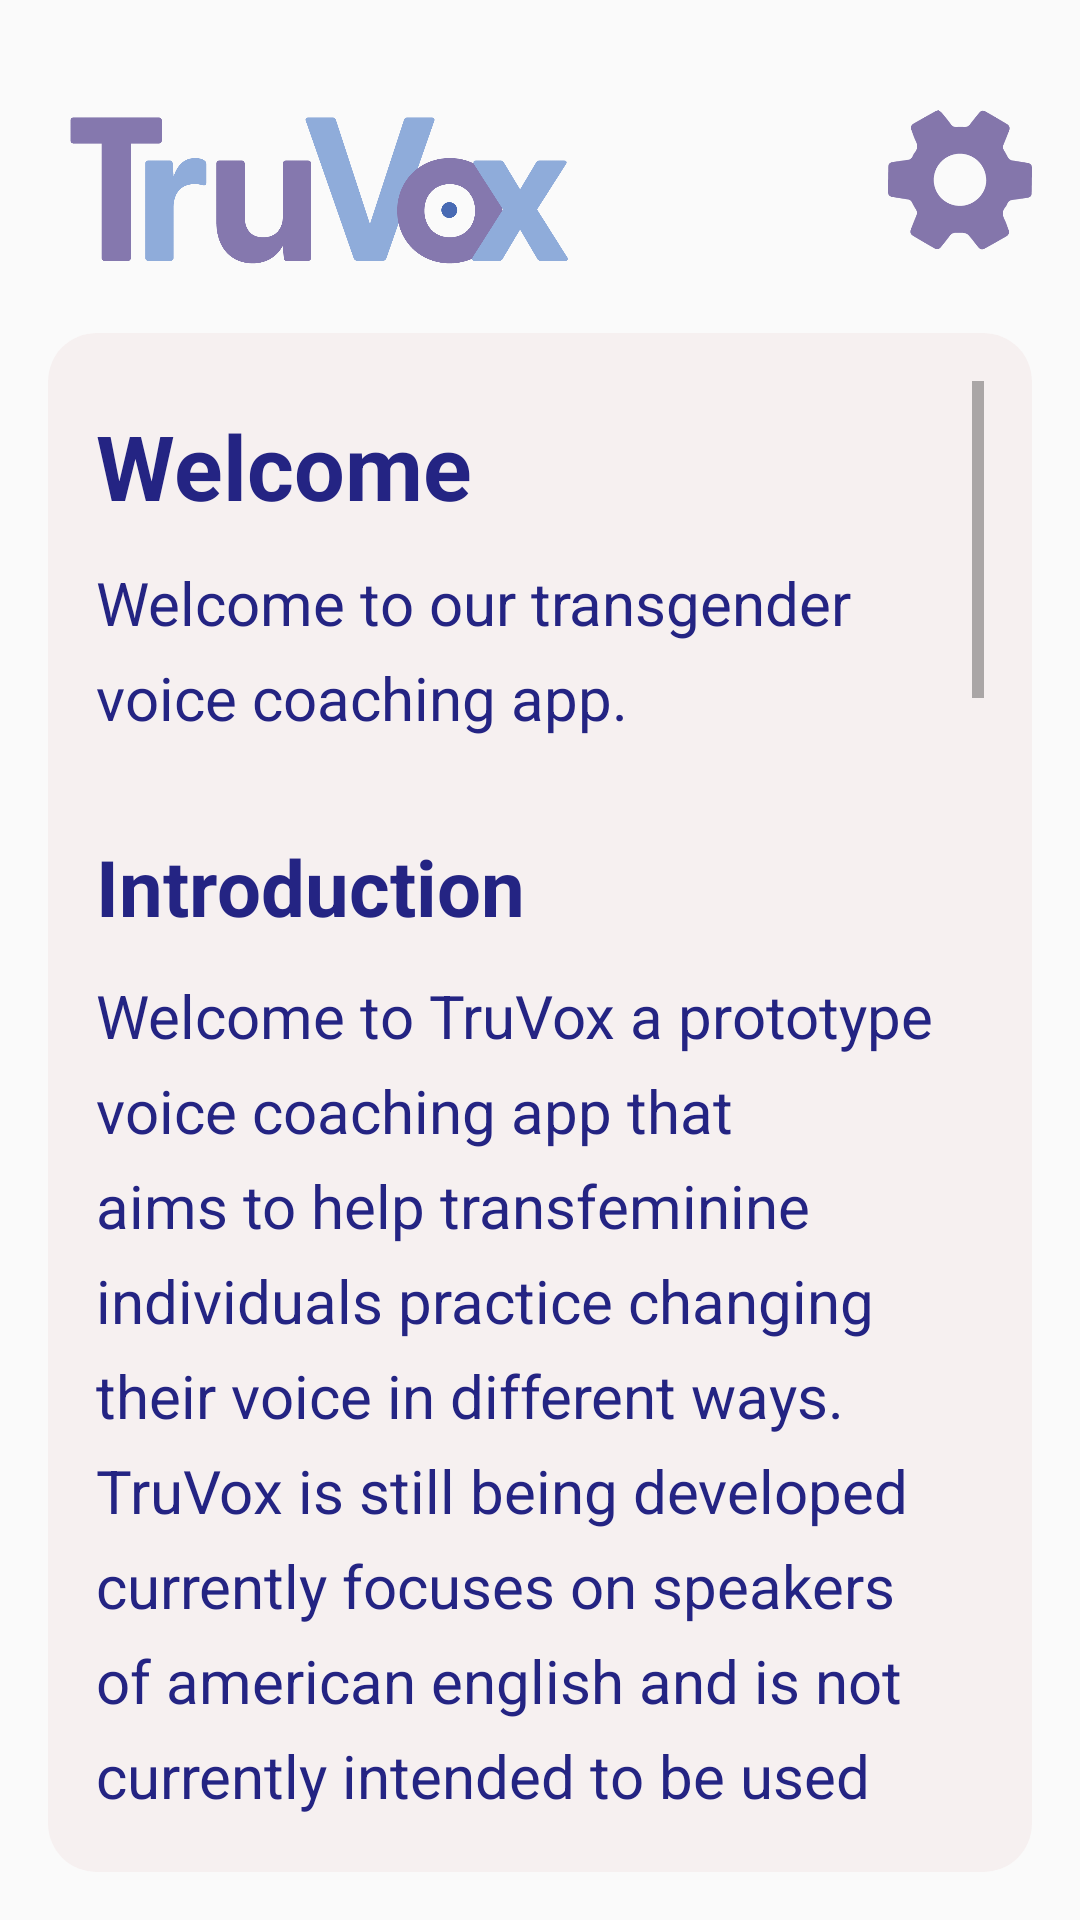

Named icons in this screenshot (1080 x 1920) and their centers, (x,y):
The Settings Button: (960,180)
